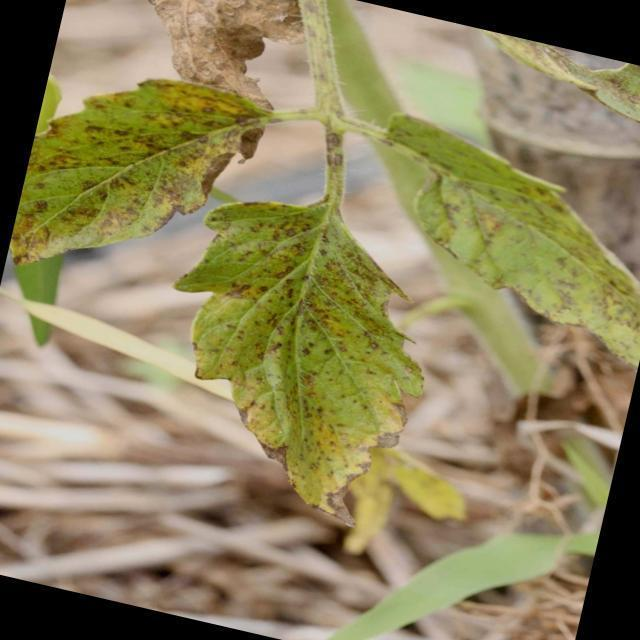Bacterial Spot: (158, 173, 426, 525), (349, 102, 640, 350), (7, 50, 254, 302)
